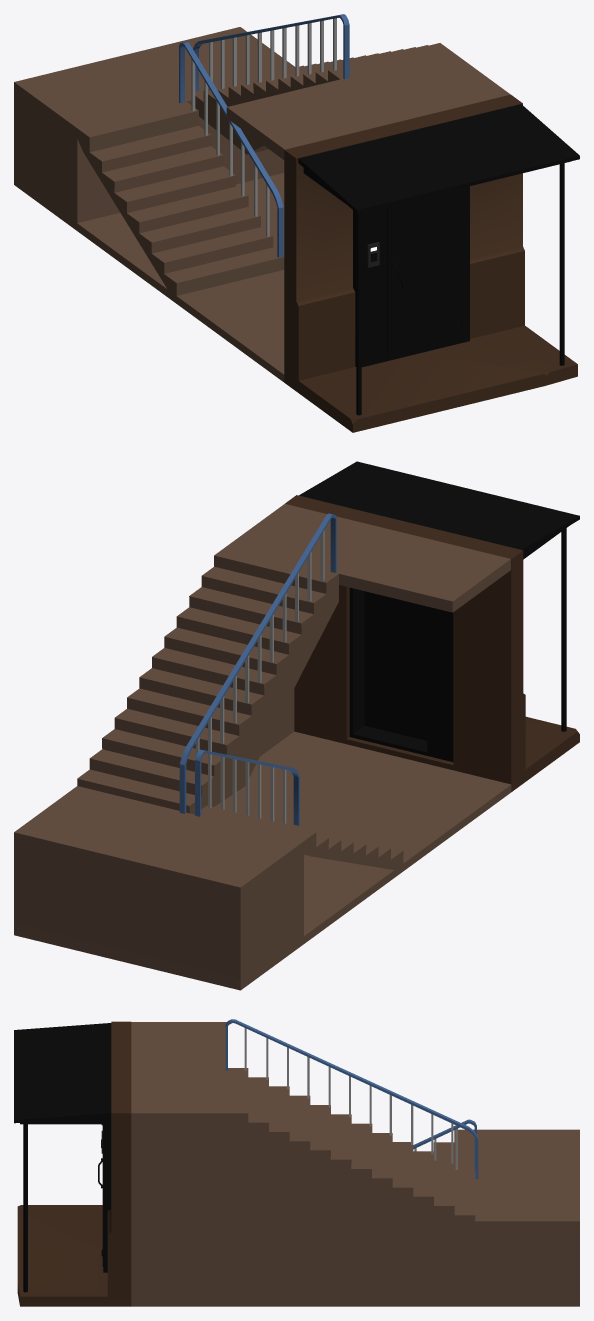
Rendered from Lower_floor_Stairs_Entrance.FBX.
3 renders of one model, top to bottom at view 1: azimuth 30°, elevation 25°; view 2: azimuth 150°, elevation 25°; view 3: azimuth 270°, elevation 25°, orthographic. The views are drawn at different scales.
Visible parts, largest first — view 1: Hub_1st_floor_entrance_002, HUB_1stfloor_entr_door_002; view 2: Hub_1st_floor_entrance_002, HUB_1stfloor_entr_door_002; view 3: Hub_1st_floor_entrance_002.
Part boxes in pixels (<box>): Hub_1st_floor_entrance_002: <box>14,14,579,432</box>; HUB_1stfloor_entr_door_002: <box>387,187,465,357</box>; Hub_1st_floor_entrance_002: <box>14,461,579,990</box>; HUB_1stfloor_entr_door_002: <box>364,591,427,740</box>; Hub_1st_floor_entrance_002: <box>14,1019,579,1306</box>.
Bounding box in the file's own units: 285 × 743 × 352.
